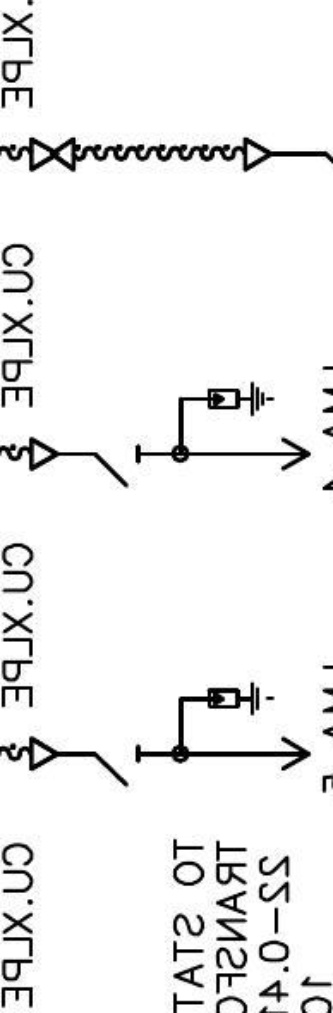22_ds_la_out: (93, 380, 313, 488), (93, 680, 313, 788)
terminator_single: (27, 734, 59, 773), (27, 434, 59, 473), (240, 135, 272, 174)
terminator_splicing_kits: (28, 136, 76, 172)
